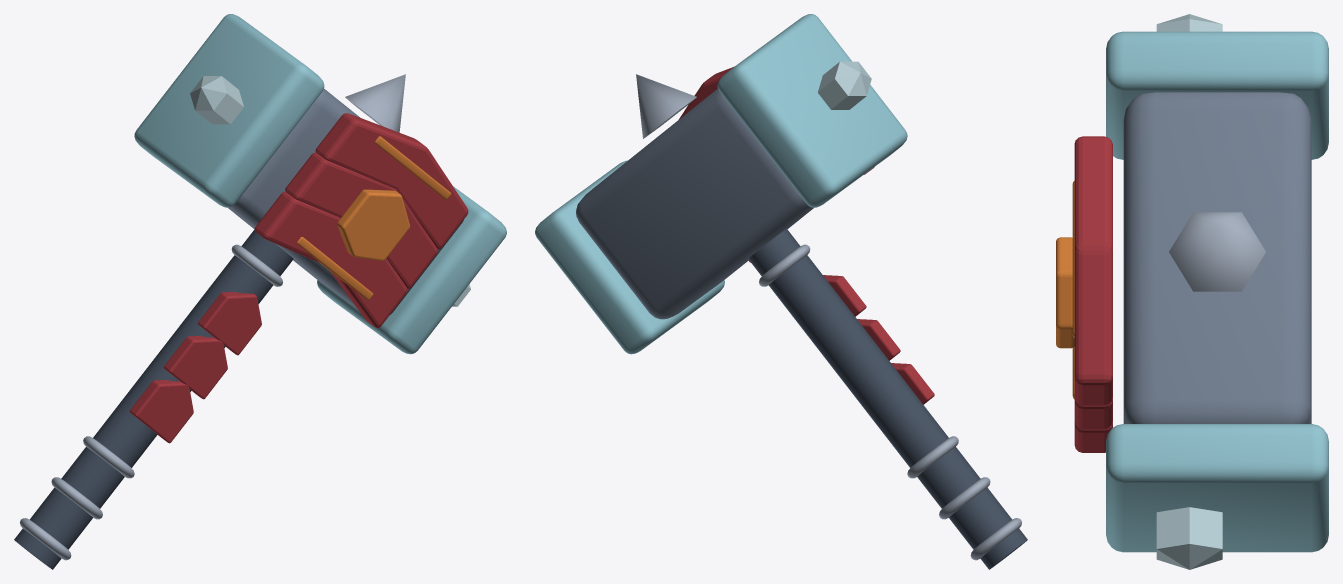
Rendered from wyrmbreaker.glb.
The picture shows the model from 3 angles, left to right: view 1: azimuth 30°, elevation 25°; view 2: azimuth 150°, elevation 25°; view 3: azimuth 270°, elevation 25°; orthographic projection. The views are drawn at different scales.
Parts seen in each view (by area): view 1: _box.001, _profile, _box, _box.003; view 2: _box, _box.001, _profile; view 3: _box, _box.001, _profile, _box.003.
Part boxes in pixels (bbox=[...]): _box.001: bbox=[134, 14, 506, 354]; _profile: bbox=[129, 113, 468, 443]; _box: bbox=[14, 74, 463, 569]; _box.003: bbox=[297, 136, 451, 300]; _box: bbox=[576, 74, 1027, 569]; _box.001: bbox=[535, 14, 907, 354]; _profile: bbox=[679, 67, 934, 404]; _box: bbox=[1123, 92, 1311, 423]; _box.001: bbox=[1106, 14, 1328, 569]; _profile: bbox=[1074, 136, 1112, 452]; _box.003: bbox=[1056, 180, 1074, 399].
Size of the model in its own units: 1.32 by 1.32 by 0.4899.
